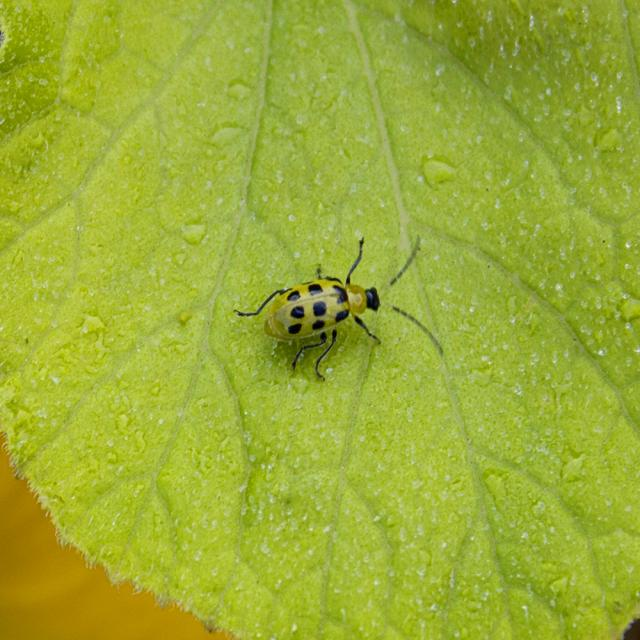cucumber_beetle: (219, 214, 461, 393)
